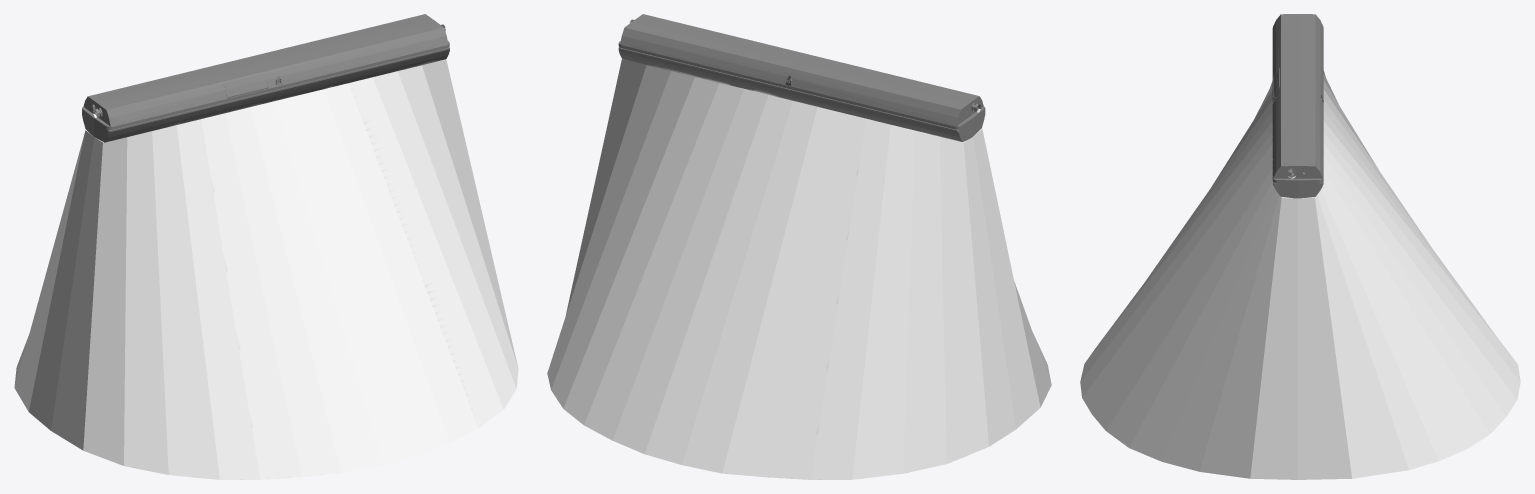
Rendered from combined.obj.
3 renders of one model, left to right at view 1: azimuth 30°, elevation 25°; view 2: azimuth 150°, elevation 25°; view 3: azimuth 270°, elevation 25°, orthographic. The views are drawn at different scales.
Parts seen in each view (by area): view 1: Cylinder, HLL; view 2: Cylinder, HLL; view 3: Cylinder, HLL.
Boxes of the visible parts, box(x1,y1,x2,y2) form: Cylinder: box(14, 59, 518, 479); HLL: box(82, 14, 449, 142); Cylinder: box(547, 59, 1051, 479); HLL: box(618, 14, 985, 141); Cylinder: box(1080, 71, 1520, 479); HLL: box(1272, 14, 1323, 198).
Bounding box in the file's own units: 75.43 × 52.81 × 72.16.
Materials: 2 (2 with a texture image).
